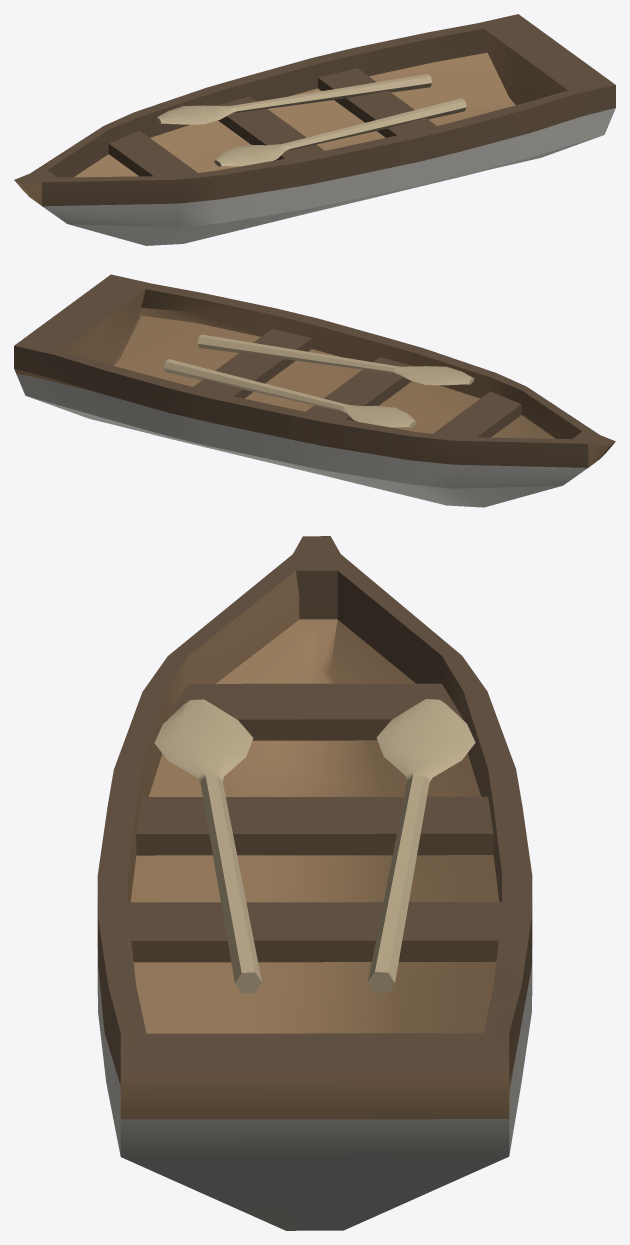
The model's file is mesh_Row boat.fbx.
3 renders of one model, top to bottom at view 1: azimuth 30°, elevation 25°; view 2: azimuth 150°, elevation 25°; view 3: azimuth 270°, elevation 25°, orthographic. The views are drawn at different scales.
Parts seen in each view (by area): view 1: Rowboat; view 2: Rowboat; view 3: Rowboat.
Part boxes in pixels (box(x1,y1,x2,y2)): Rowboat: box(14, 14, 615, 245); Rowboat: box(14, 274, 615, 507); Rowboat: box(97, 536, 532, 1230).
Size of the model in its own units: 654 by 111 by 224.
1 material, 1 textured.
